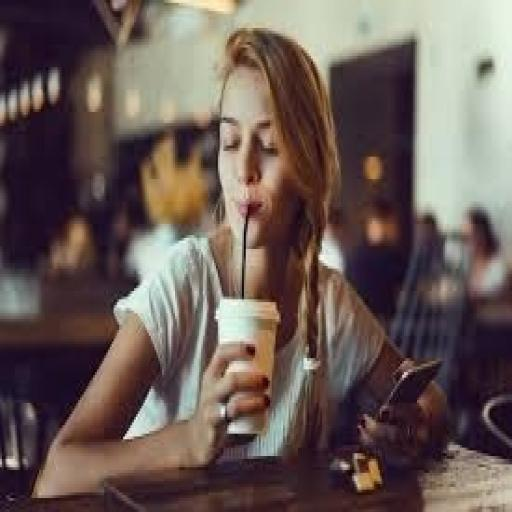drinking: (214, 296, 279, 436)
